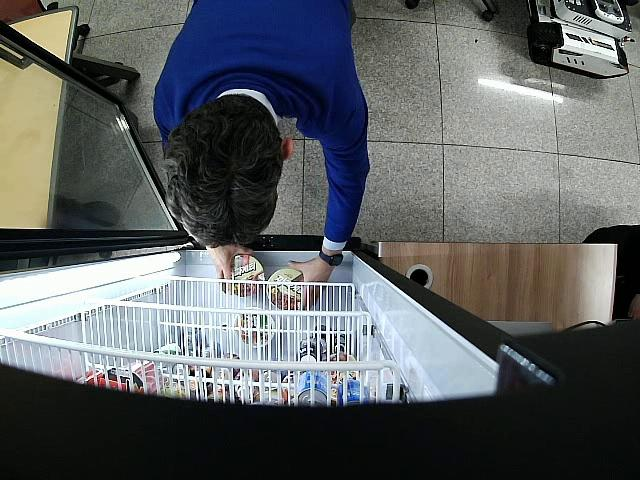00_hand: (287, 258, 332, 310), (206, 245, 253, 294)
03_chapagetti_L: (222, 255, 264, 297), (266, 269, 304, 311)
